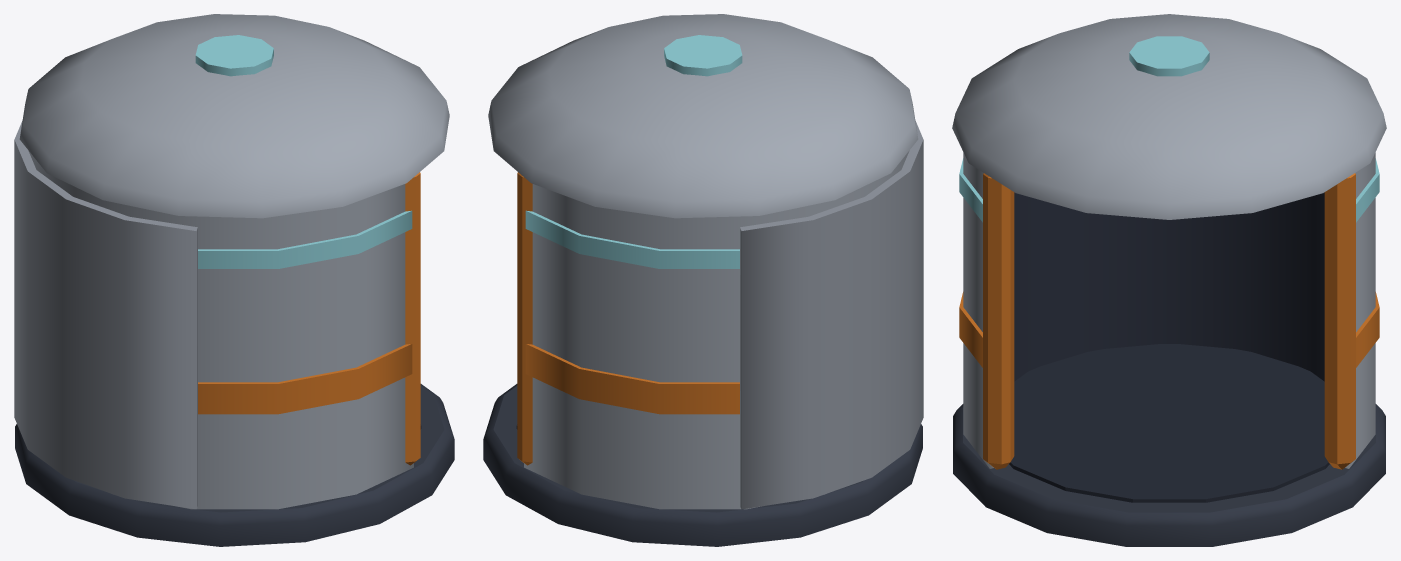
The model's file is space-hide.glb.
3 views of the same model, side by side, from view 1: azimuth 30°, elevation 25°; view 2: azimuth 150°, elevation 25°; view 3: azimuth 270°, elevation 25° (orthographic).
Visible parts, largest first — view 1: space-hide; view 2: space-hide; view 3: space-hide.
Part boxes in pixels (left/top/right/bottom): space-hide: left=14, top=14, right=454, bottom=546; space-hide: left=483, top=14, right=923, bottom=546; space-hide: left=952, top=14, right=1386, bottom=546.
Size of the model in its own units: 1.3 by 1.33 by 1.3.
